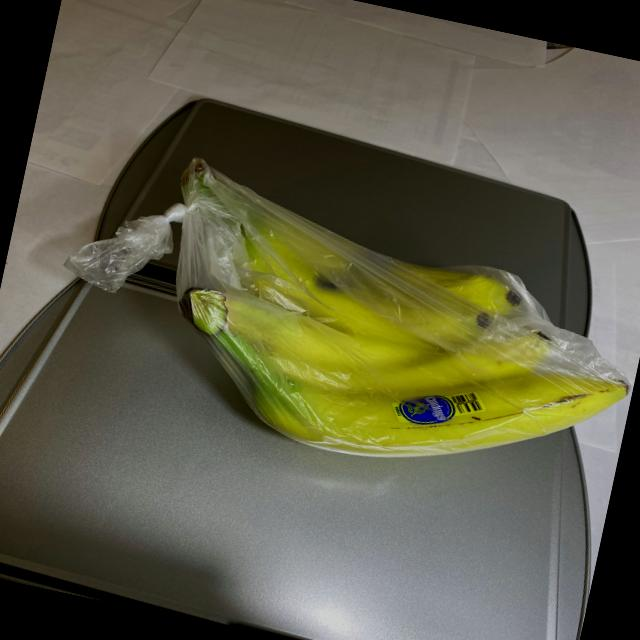banana: (109, 151, 640, 512)
